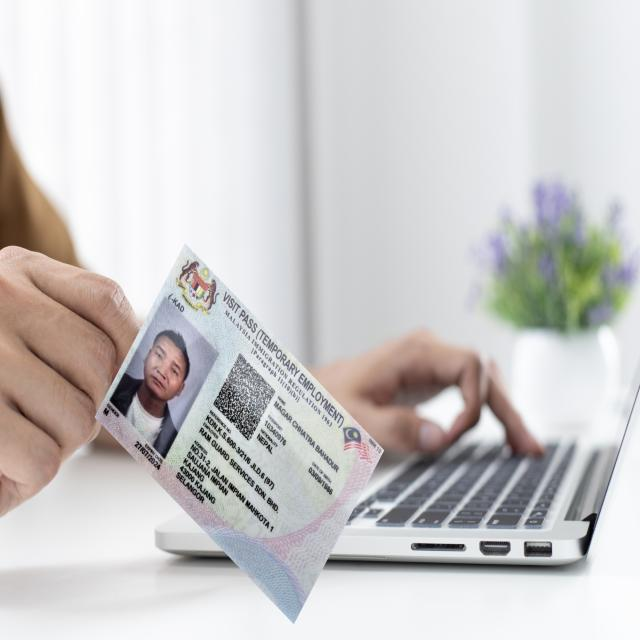ikad-temp: (92, 240, 387, 629)
